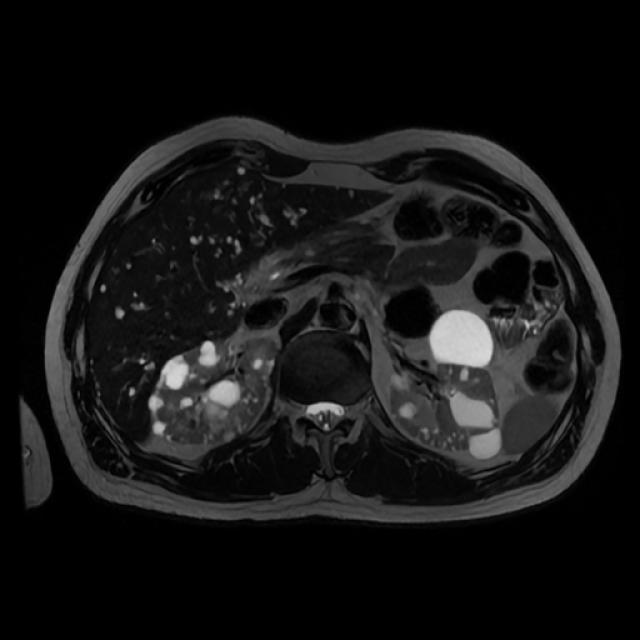sag: (147, 336, 279, 448)
sol: (387, 308, 503, 461)
